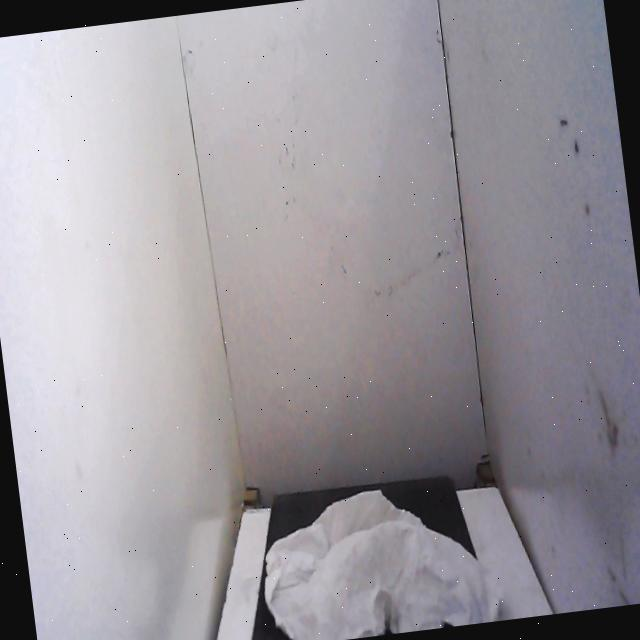paper: (237, 461, 513, 640)
